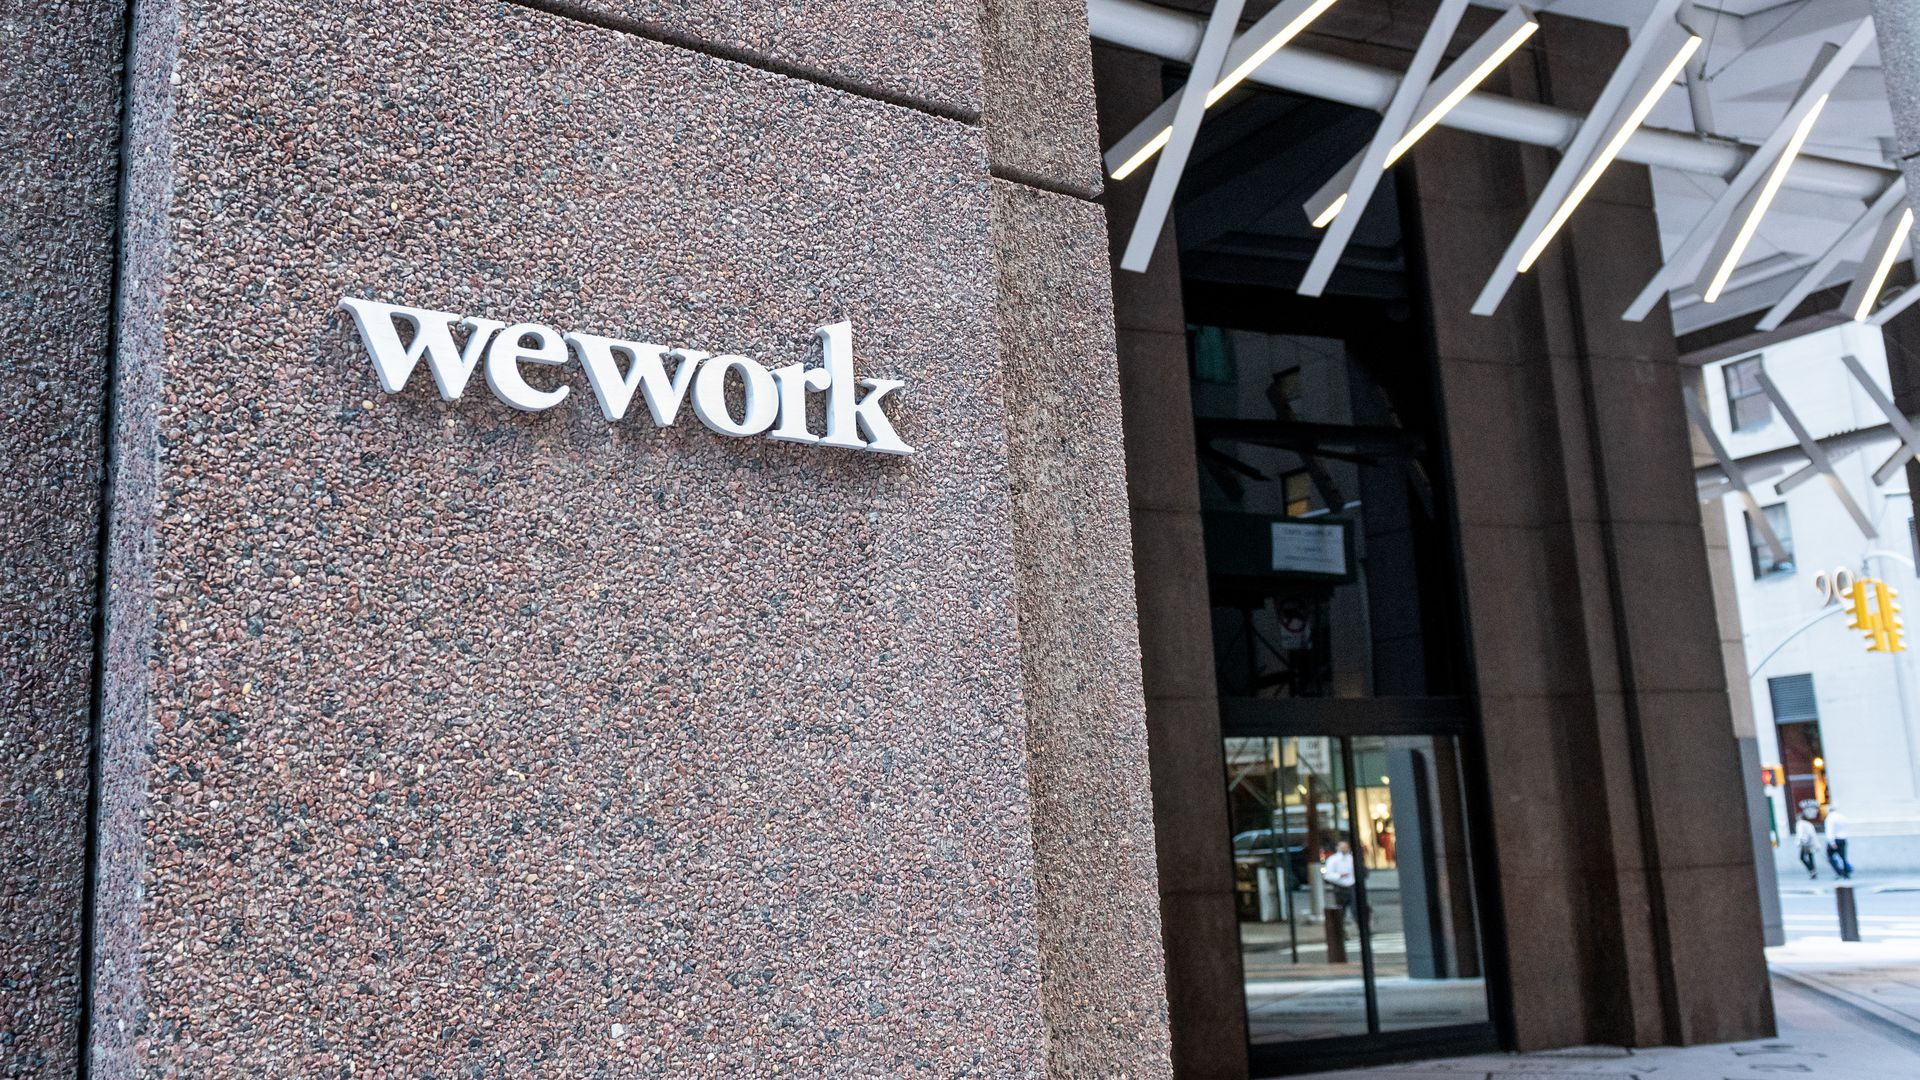wework: (331, 280, 926, 469)
